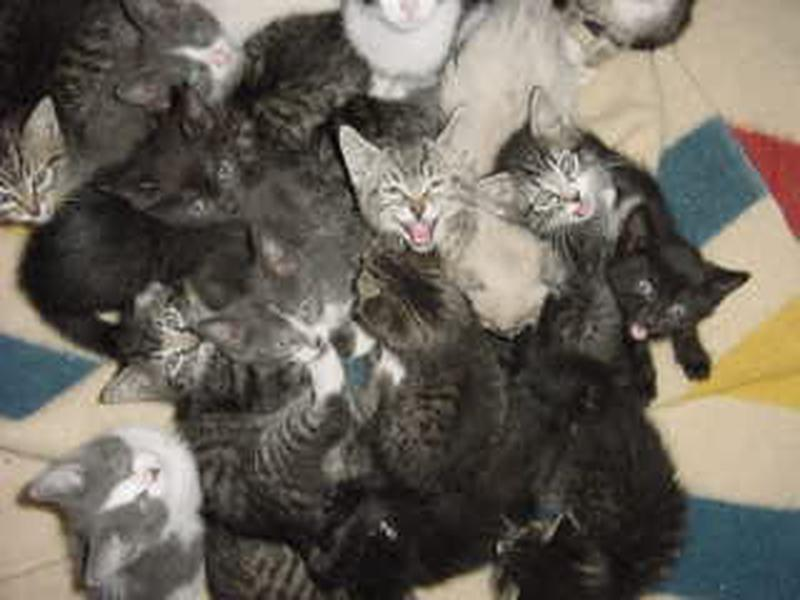cat: (83, 83, 310, 260), (486, 83, 667, 295), (14, 422, 222, 596), (325, 104, 495, 300), (73, 274, 282, 413)
